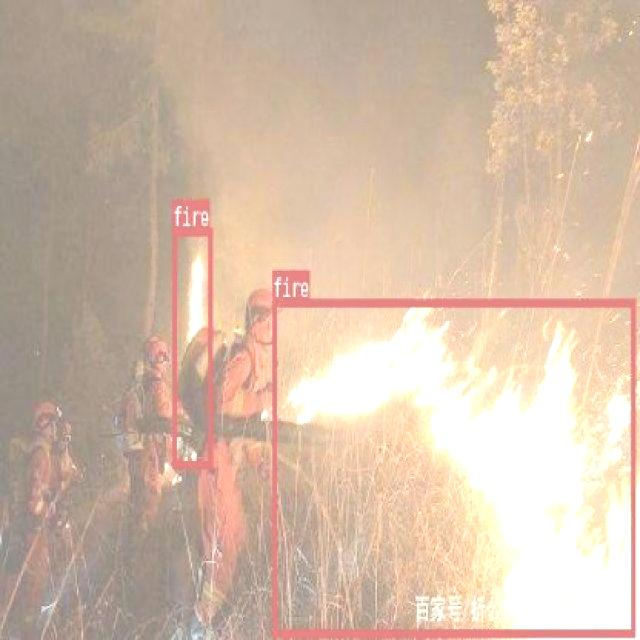fire: (271, 296, 634, 636), (172, 226, 212, 466)
